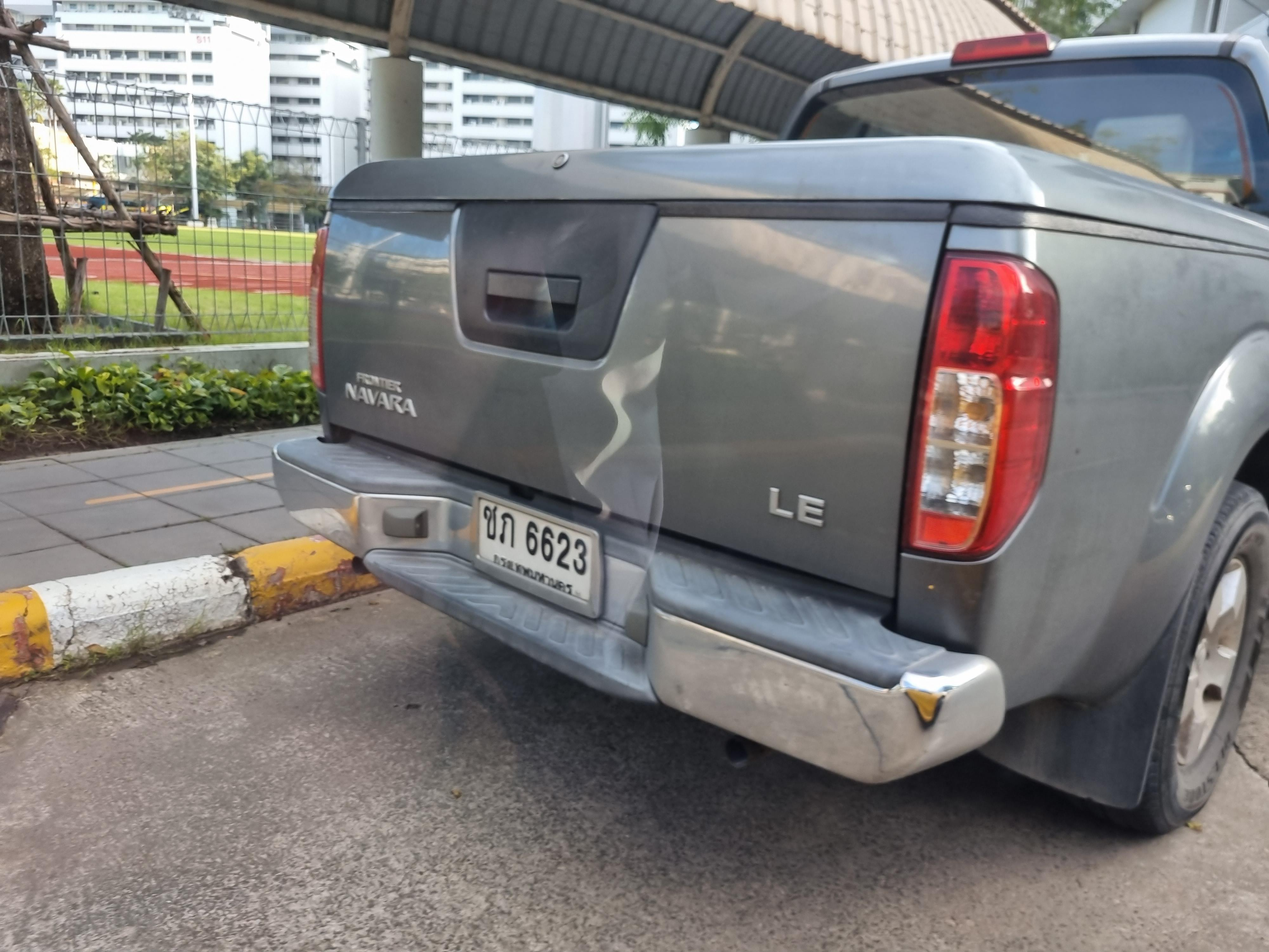license-plate: (469, 484, 605, 621)
